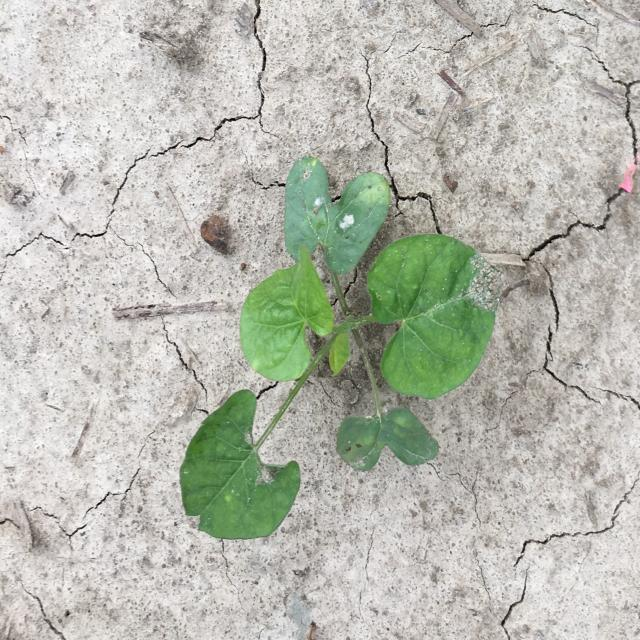MorningGlory: (179, 154, 502, 540)
